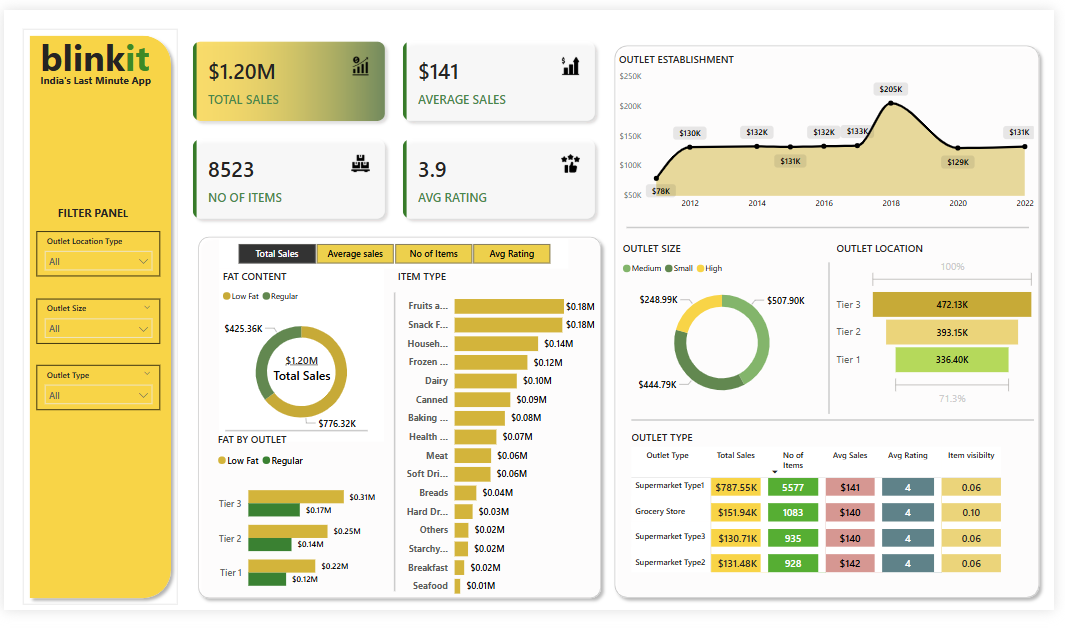

The dashboard page shown, as its layout file describes it:
{"tool":"powerbi","page":{"name":"Page 1","canvas":[1400,800],"ordinal":0},"visuals":[{"type":"shape","box":[25,25,206.7,768.3],"z":0},{"type":"textbox","box":[43,25,330,63],"z":1000},{"type":"textbox","box":[43.3,80,176.7,28.9],"z":2000},{"type":"cardVisual","fields":{"Data":["BlinkIT Grocery Data.Total Sales","BlinkIT Grocery Data.Average Time","BlinkIT Grocery Data.No of Items","BlinkIT Grocery Data.Avg Rating"]},"box":[235.7,25.7,570,270],"z":3000},{"type":"shape","box":[250,292.5,555,500],"z":4000},{"type":"donutChart","title":"FAT CONTENT","fields":{"Y":["BlinkIT Grocery Data.Total Sales"],"Category":["BlinkIT Grocery Data.Item Fat Content"]},"box":[287.1,344.3,220,230],"z":5000},{"type":"slicer","fields":{"Values":["Metrics.Metrics"]},"box":[287.1,304.3,465.7,40],"z":6000},{"type":"cardVisual","fields":{"Data":["BlinkIT Grocery Data.Total Sales"]},"box":[335.7,438.6,124.3,77.1],"z":7000},{"type":"clusteredBarChart","title":"FAT BY OUTLET","fields":{"Y":["BlinkIT Grocery Data.Total Sales"],"Category":["BlinkIT Grocery Data.Outlet Location Type"],"Series":["BlinkIT Grocery Data.Item Fat Content"]},"box":[280,562.9,220,230],"z":8000},{"type":"shape","box":[295,542.5,190,35],"z":9000},{"type":"shape","box":[506.7,376.7,28.3,398.3],"z":10000},{"type":"barChart","title":"ITEM TYPE","fields":{"Y":["BlinkIT Grocery Data.Total Sales"],"Category":["BlinkIT Grocery Data.Item Type"]},"box":[520,344.3,272.9,448.6],"z":11000},{"type":"shape","box":[805.7,38.6,584.3,754.3],"z":12000},{"type":"lineChart","title":"OUTLET ESTABLISHMENT","fields":{"Category":["BlinkIT Grocery Data.Outlet Establishment Year"],"Y":["BlinkIT Grocery Data.Total Sales"]},"box":[815,56.7,563.3,218.3],"z":13000},{"type":"shape","box":[830,255,536.7,70],"z":14000},{"type":"donutChart","title":"OUTLET SIZE","fields":{"Y":["BlinkIT Grocery Data.Total Sales"],"Category":["BlinkIT Grocery Data.Outlet Size"]},"box":[820,308.3,275,225],"z":15000},{"type":"shape","box":[1091.7,336.7,16.7,201.7],"z":16000},{"type":"funnel","title":"OUTLET LOCATION","fields":{"Y":["Sum(BlinkIT Grocery Data.Sales)"],"Category":["BlinkIT Grocery Data.Outlet Location Type"]},"box":[1105,308.3,275,225],"z":17000},{"type":"shape","box":[836.7,511.7,536.7,70],"z":18000},{"type":"pivotTable","title":"OUTLET TYPE","fields":{"Rows":["BlinkIT Grocery Data.Outlet Type"],"Values":["BlinkIT Grocery Data.Total Sales","BlinkIT Grocery Data.No of Items","BlinkIT Grocery Data.Average sales","BlinkIT Grocery Data.Avg Rating","Avg(BlinkIT Grocery Data.Item Visibility)"]},"box":[831.7,560,546.7,226.7],"z":19000},{"type":"slicer","fields":{"Values":["BlinkIT Grocery Data.Outlet Location Type"]},"box":[43.3,295,165,60],"z":20000},{"type":"slicer","fields":{"Values":["BlinkIT Grocery Data.Outlet Size"]},"box":[43.3,385,165,60],"z":21000},{"type":"slicer","fields":{"Values":["BlinkIT Grocery Data.Outlet Type"]},"box":[43.3,473.3,165,60],"z":22000},{"type":"textbox","box":[66.7,255,118.3,35],"z":23000}]}

Visuals, with their boxes on the page's 1400x800 design canvas (x1, y1, x2, y2). These are canvas units, not pixel positions in the 1065x630 screenshot, which may show the page scaled, cropped or inside an application window:
shape: detection(25, 25, 232, 793)
textbox: detection(43, 25, 373, 88)
textbox: detection(43, 80, 220, 109)
cardVisual - BlinkIT Grocery Data.Total Sales x BlinkIT Grocery Data.Average Time: detection(236, 26, 806, 296)
shape: detection(250, 292, 805, 792)
"FAT CONTENT" donutChart: detection(287, 344, 507, 574)
slicer - Metrics.Metrics: detection(287, 304, 753, 344)
cardVisual - BlinkIT Grocery Data.Total Sales: detection(336, 439, 460, 516)
"FAT BY OUTLET" clusteredBarChart: detection(280, 563, 500, 793)
shape: detection(295, 542, 485, 578)
shape: detection(507, 377, 535, 775)
"ITEM TYPE" barChart: detection(520, 344, 793, 793)
shape: detection(806, 39, 1390, 793)
"OUTLET ESTABLISHMENT" lineChart: detection(815, 57, 1378, 275)
shape: detection(830, 255, 1367, 325)
"OUTLET SIZE" donutChart: detection(820, 308, 1095, 533)
shape: detection(1092, 337, 1108, 538)
"OUTLET LOCATION" funnel: detection(1105, 308, 1380, 533)
shape: detection(837, 512, 1373, 582)
"OUTLET TYPE" pivotTable: detection(832, 560, 1378, 787)
slicer - BlinkIT Grocery Data.Outlet Location Type: detection(43, 295, 208, 355)
slicer - BlinkIT Grocery Data.Outlet Size: detection(43, 385, 208, 445)
slicer - BlinkIT Grocery Data.Outlet Type: detection(43, 473, 208, 533)
textbox: detection(67, 255, 185, 290)
